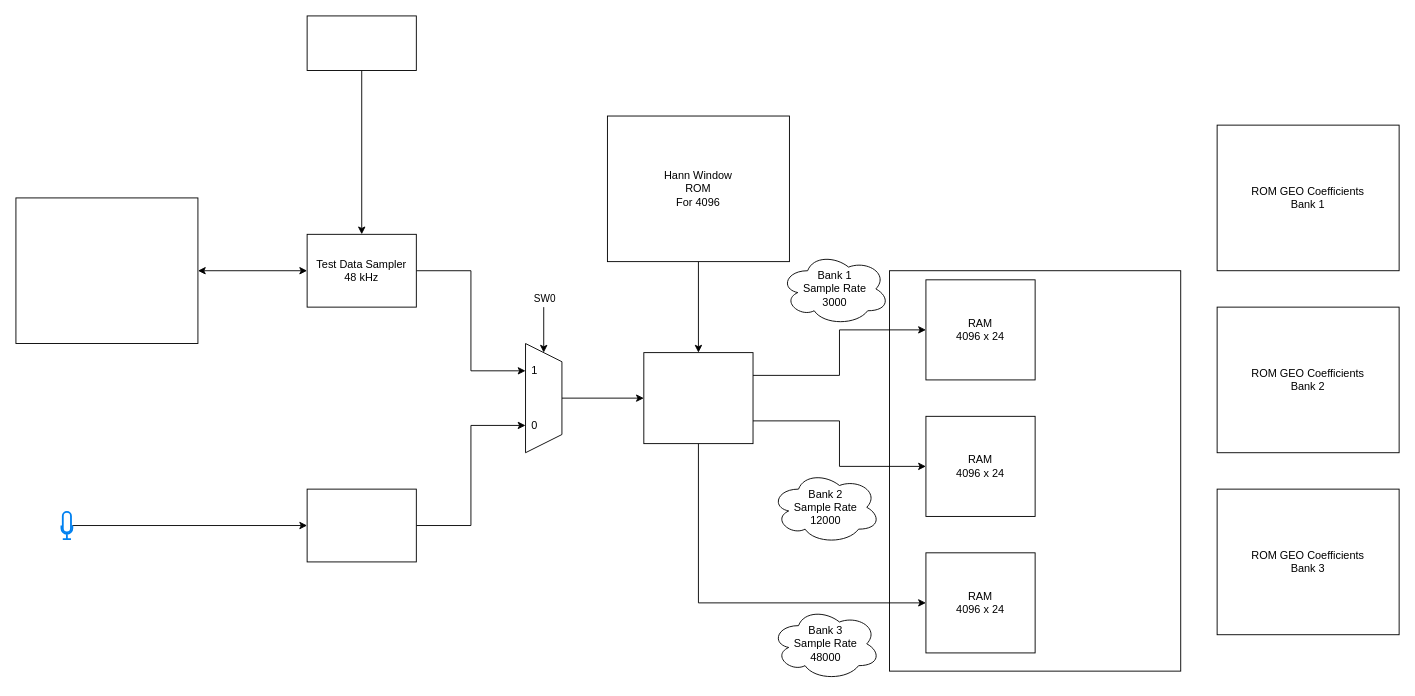
Image size: 1415x696. Some labels were removed from this diagram. Each missing label, with the centre of its shape:
ADC SSM2603CPZ 24-bit ADC & DAC Output: the point at 361,525
Bank Sampler: the point at 698,398
Clock Generator: the point at 361,43
Key Note ROM 4096 x 24 Generated ADC Values: the point at 106,270
